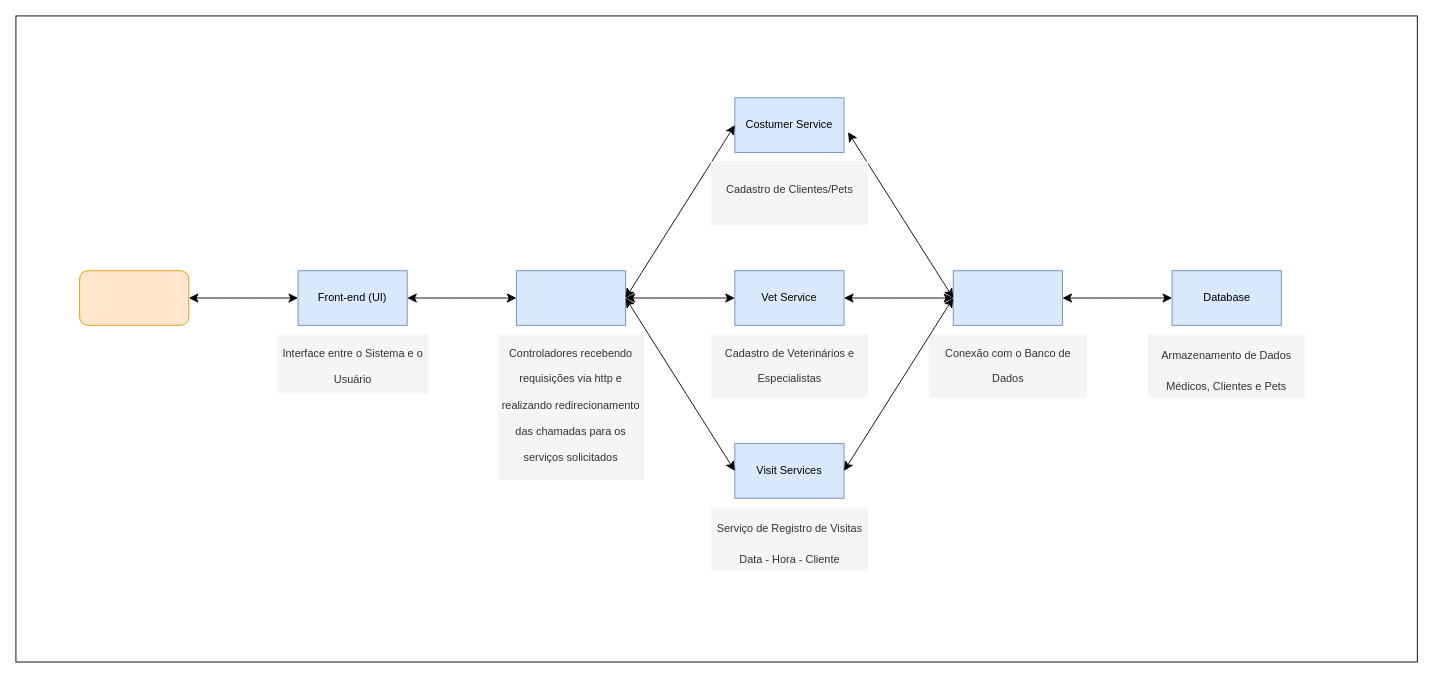
The diagram is 1433 pixels wide and 678 high, and some of its shapes have lost their labels. Each missing label, with the centre of its shape:
API Gateway: [571,297]
Repositórios: [1007,297]
Usuário: [134,297]
